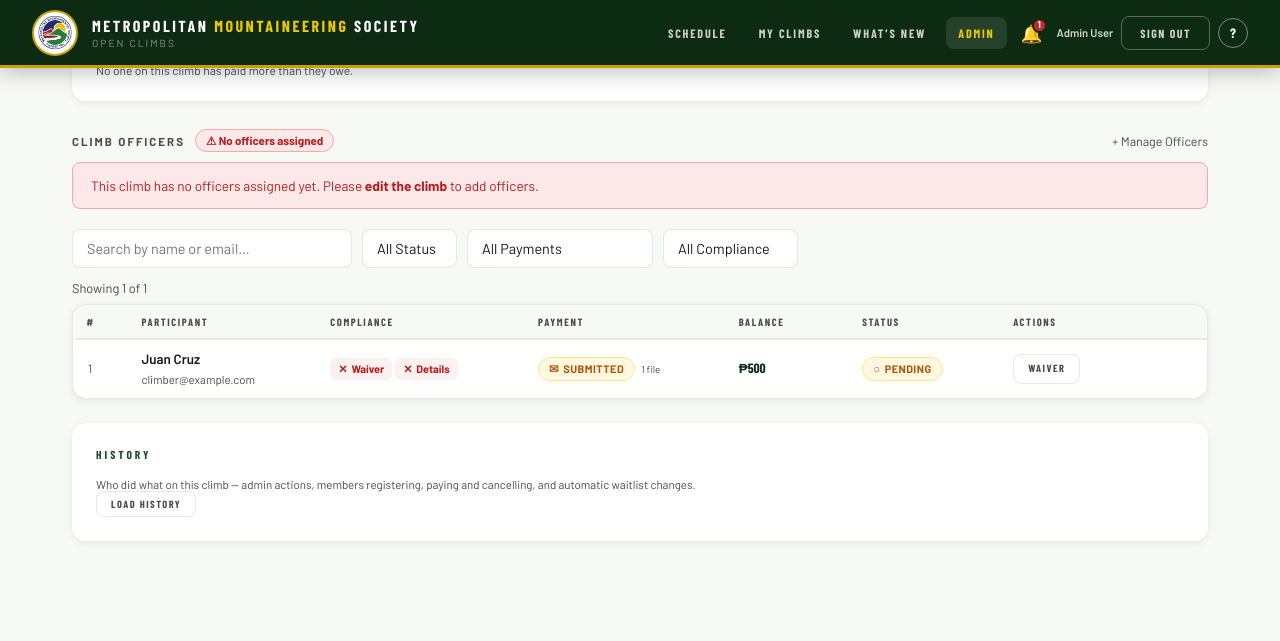
Test: Admin ClimbDetail › still shows a pre-`payments` registration's receipts as one payment
The width and height of the screenshot is (1280, 641).
(page scrolled)
Click the text "Juan Cruz": coordinates (171, 360) [141, 350, 200, 370]
(page scrolled)
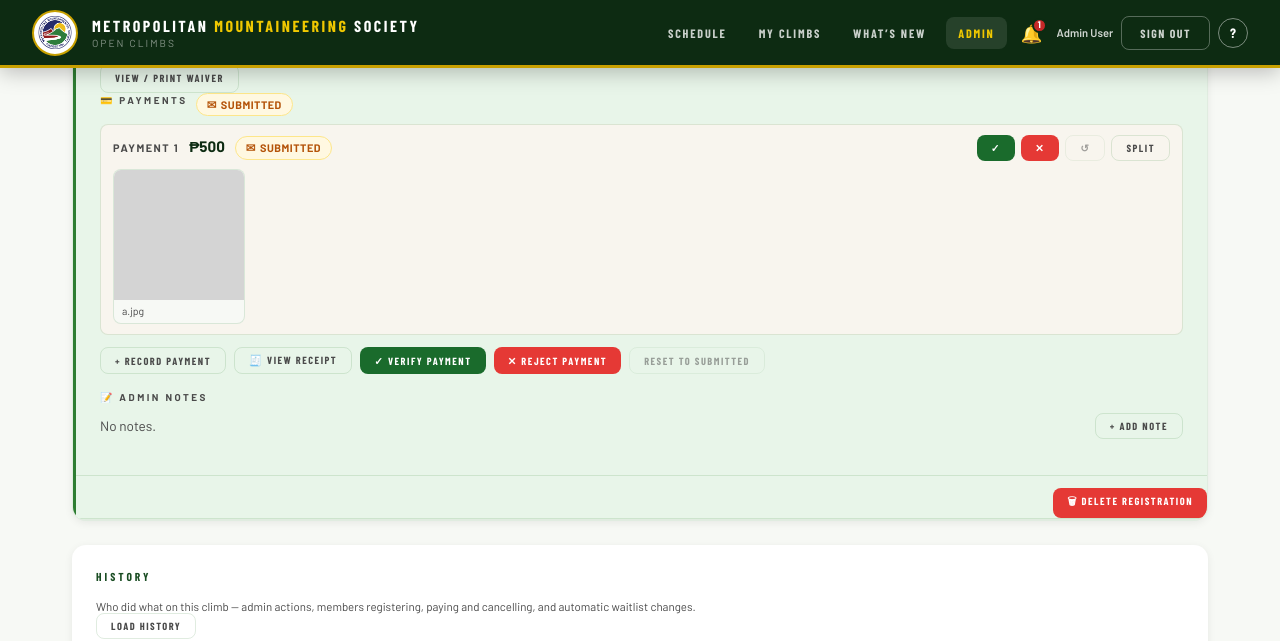
Result: the text "Payment 1" is shown at [113, 140, 179, 156]
Result: the button "✓ Verify Payment" is shown at [360, 347, 486, 374]
